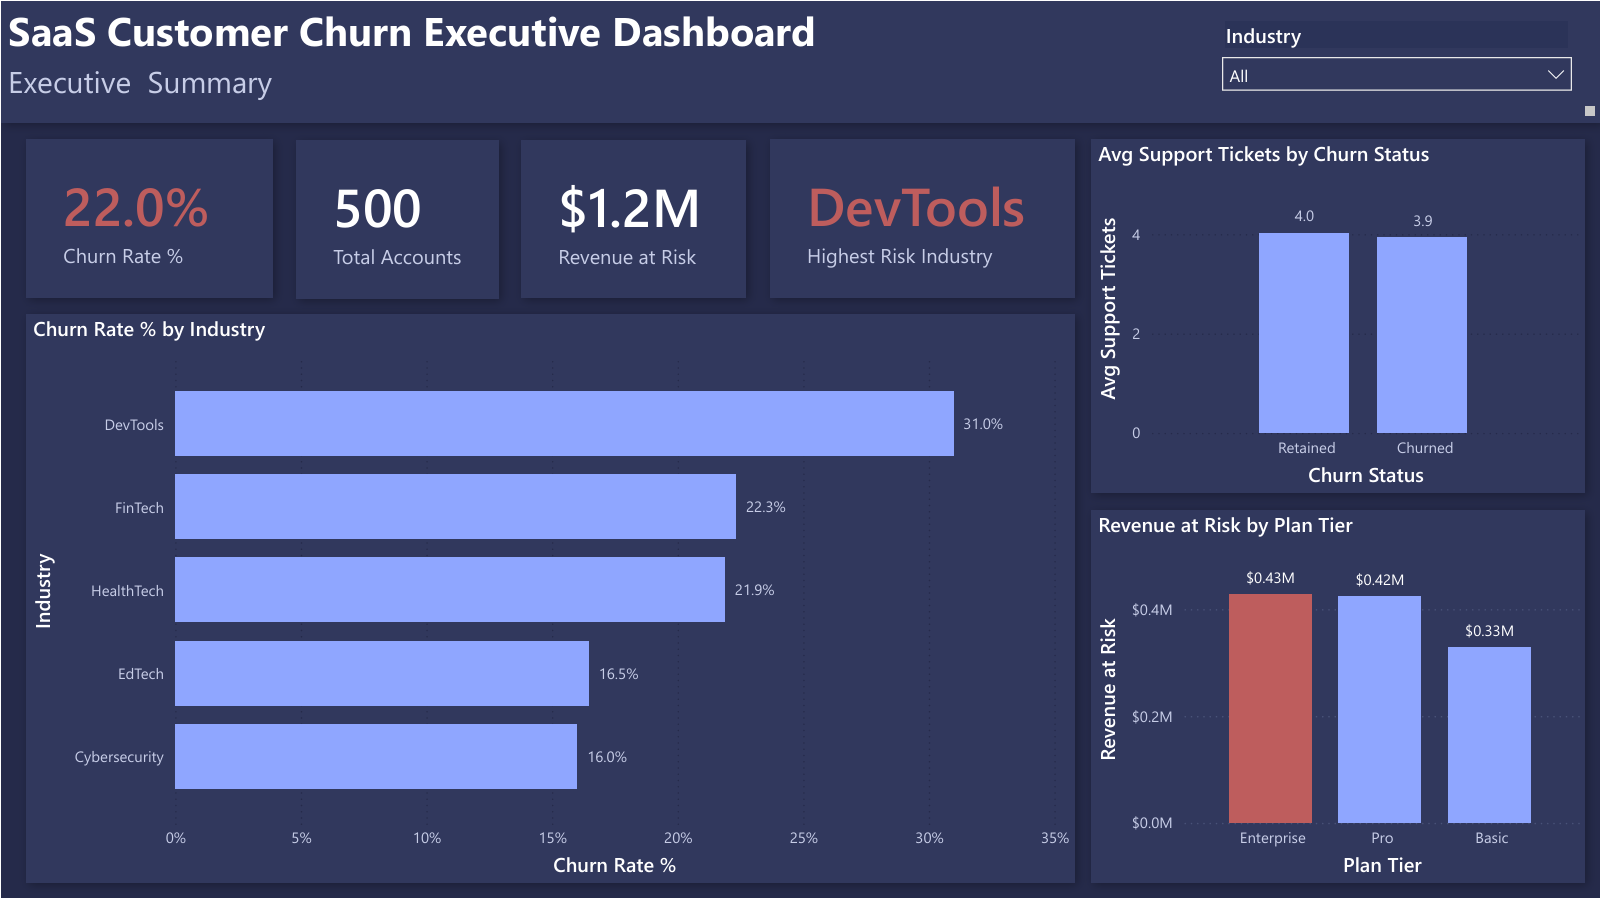

This screenshot's page, from the dashboard's own definition file:
{"tool":"powerbi","page":{"name":"Executive Summary","canvas":[1280,720],"ordinal":0},"visuals":[{"type":"cardVisual","fields":{"Data":["accounts.Churn Rate %"]},"box":[20,110,197.4,126.8],"z":0},{"type":"textbox","title":"SaaS Customer Churn Executive Dashboard","box":[0,0,1280,96.7],"z":1000},{"type":"cardVisual","fields":{"Data":["accounts.Total_accounts"]},"box":[235.8,111.1,162.6,126.8],"z":2000},{"type":"cardVisual","fields":{"Data":["accounts.Revenue at Risk"]},"box":[415.8,110.5,180,126.8],"z":3000},{"type":"cardVisual","fields":{"Data":["accounts.Highest Risk Industry"]},"box":[614.7,110,244,126.7],"z":4000},{"type":"clusteredColumnChart","fields":{"Category":["accounts.Churn Status"],"Y":["accounts.Avg Support Tickets"]},"box":[871.7,110,395,282.5],"z":5000},{"type":"columnChart","title":"Revenue at Risk by Plan Tier","fields":{"Category":["accounts.plan_tier"],"Y":["accounts.Revenue at Risk"]},"box":[871.7,406.7,395,298.3],"z":6000},{"type":"clusteredBarChart","title":"Churn Rate % by Industry","fields":{"Category":["accounts.industry"],"Y":["accounts.Churn Rate %"]},"box":[20,250,838.8,455],"z":7000},{"type":"slicer","fields":{"Values":["accounts.industry"]},"box":[966.2,11.2,300,73.8],"z":8000}]}

Visuals, with their boxes in screenshot pixels (x1, y1, x2, y2), scaled from the page's 1280x720 canvas onto the 1600x898 screenshot:
cardVisual - accounts.Churn Rate %: [25, 137, 272, 295]
"SaaS Customer Churn Executive Dashboard" textbox: [0, 0, 1599, 121]
cardVisual - accounts.Total_accounts: [295, 139, 498, 297]
cardVisual - accounts.Revenue at Risk: [520, 138, 745, 296]
cardVisual - accounts.Highest Risk Industry: [768, 137, 1073, 295]
clusteredColumnChart - accounts.Churn Status x accounts.Avg Support Tickets: [1090, 137, 1583, 490]
"Revenue at Risk by Plan Tier" columnChart: [1090, 507, 1583, 879]
"Churn Rate % by Industry" clusteredBarChart: [25, 312, 1074, 879]
slicer - accounts.industry: [1208, 14, 1583, 106]
